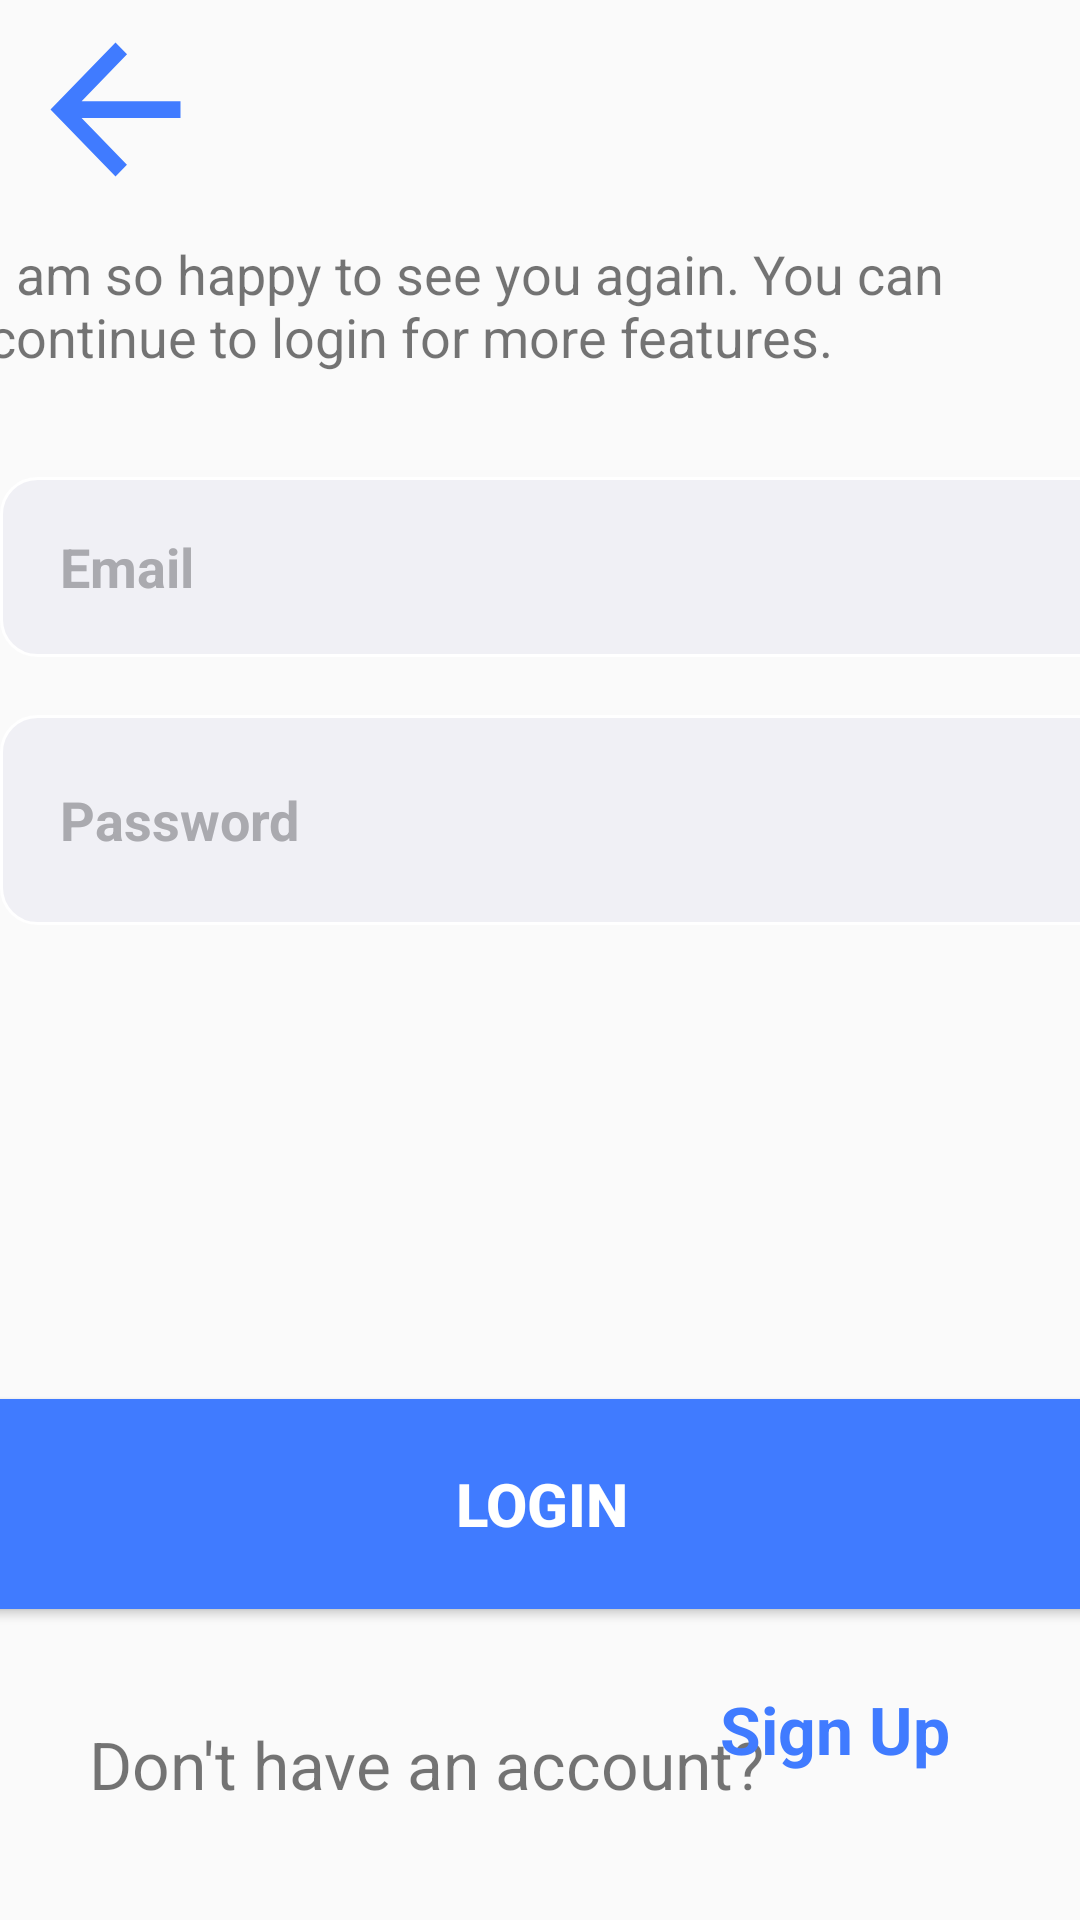

Screen size 1080x1920. Icon name, then its box in pixels as (x1, y1, x2, y2):
arrow back: (50, 42, 181, 177)
